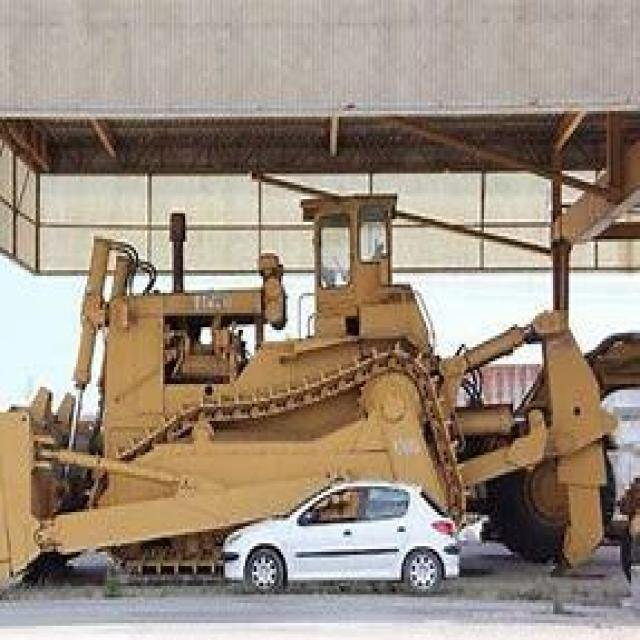Bulldozer: (6, 185, 608, 594)
